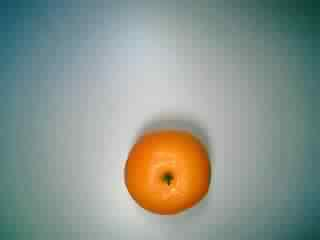orange: (119, 118, 214, 220)
